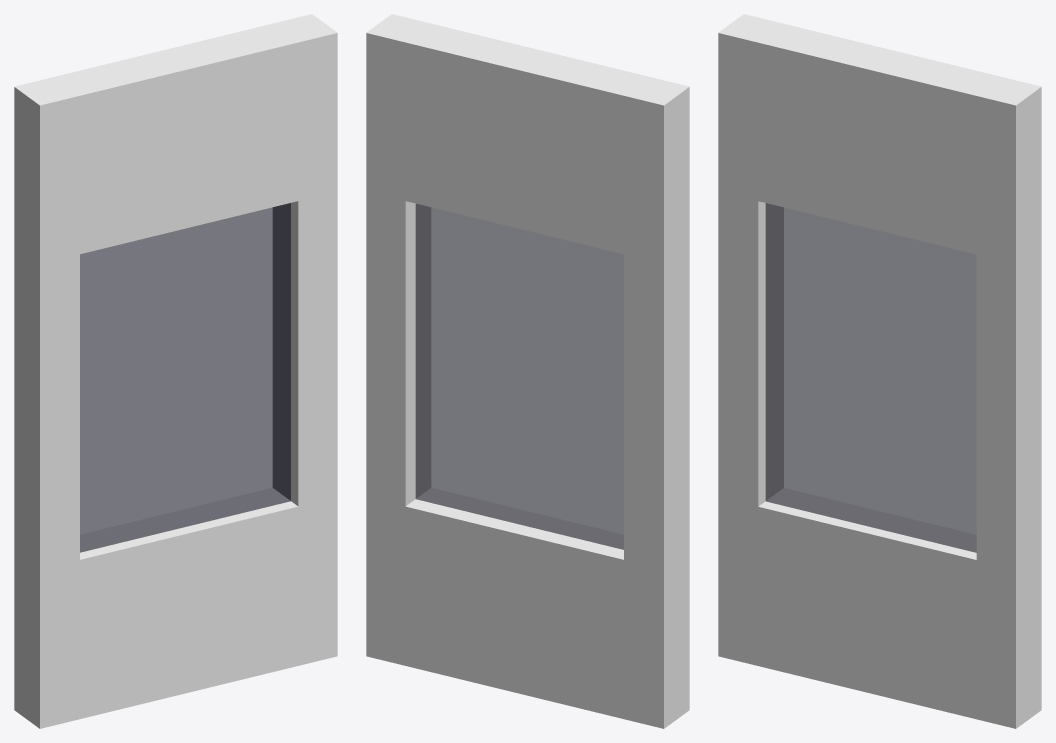
Rendered from WhiteWindow.glb.
3 views of the same model, side by side, from view 1: azimuth 30°, elevation 25°; view 2: azimuth 150°, elevation 25°; view 3: azimuth 330°, elevation 25° (orthographic).
Parts seen in each view (by area): view 1: wall_white_window; view 2: wall_white_window; view 3: wall_white_window.
Part boxes in pixels (left/top/right/bottom): wall_white_window: left=14, top=14, right=337, bottom=728; wall_white_window: left=366, top=14, right=689, bottom=728; wall_white_window: left=718, top=14, right=1041, bottom=728.
Size of what is drawn, in the model's own units: 2 by 4 by 0.3.
2 materials, 2 textured.
